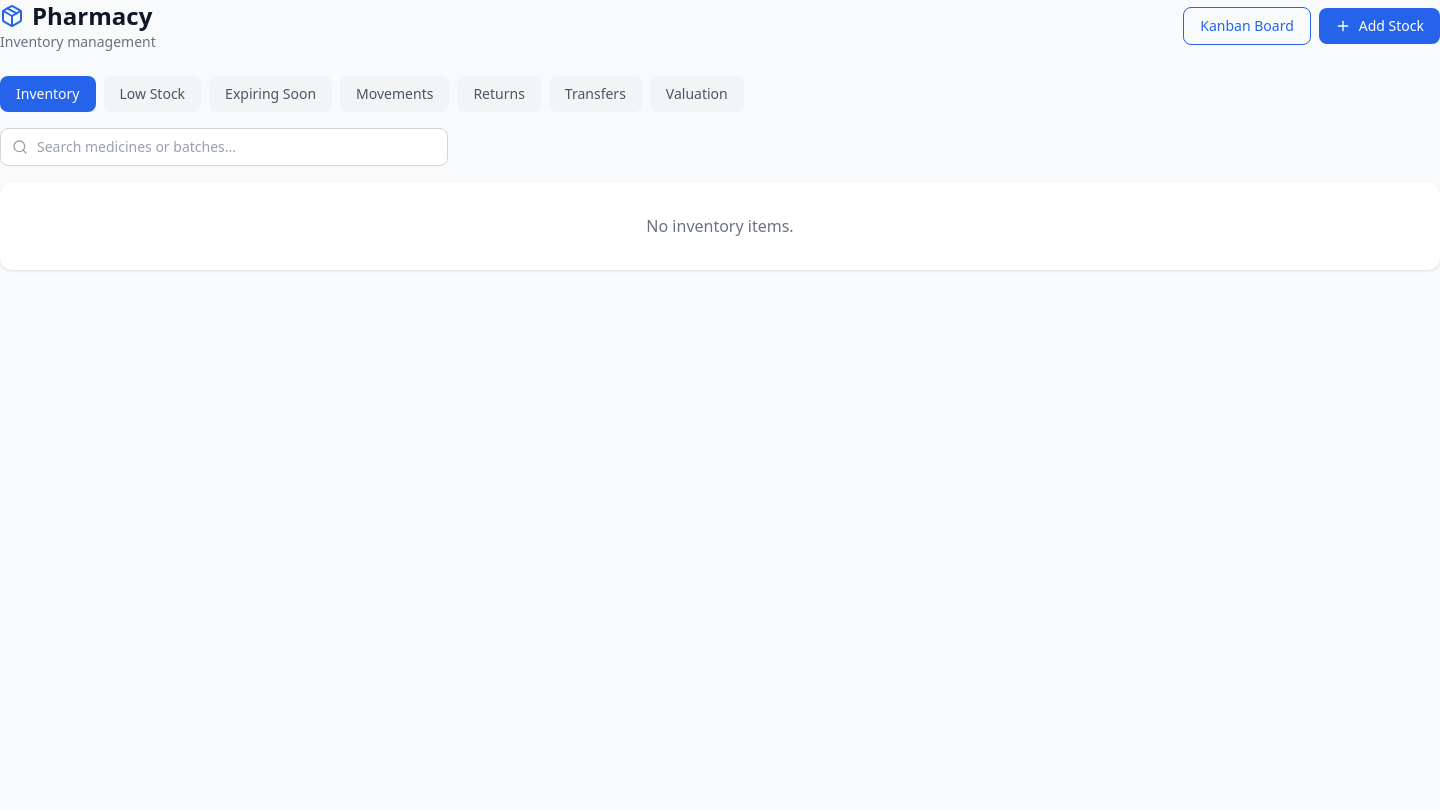
Test: PharmacyPage (inventory dashboard — full surface) › AddStock modal — past expiry date rejects via the field error
expect the text "No inventory items." is shown: met, box [646,215,794,237]
Click the button "Add Stock" at (1379, 26), box [1319,8,1439,44]
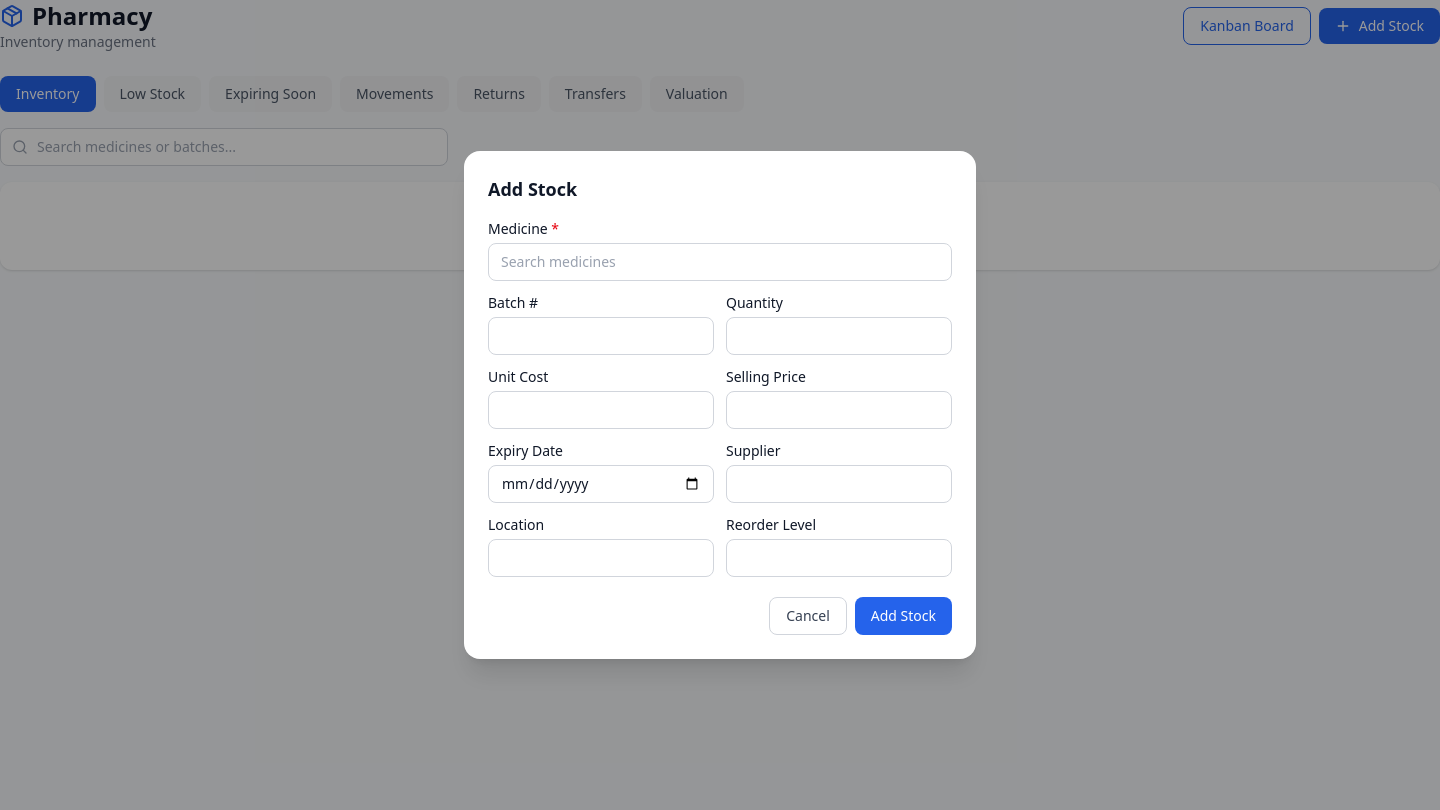
Type "B-NEW" into the field with test id "add-stock-batch" at (601, 336), box [488,317,714,355]
Type "10" into the number field with test id "add-stock-quantity" at (839, 336), box [726,317,952,355]
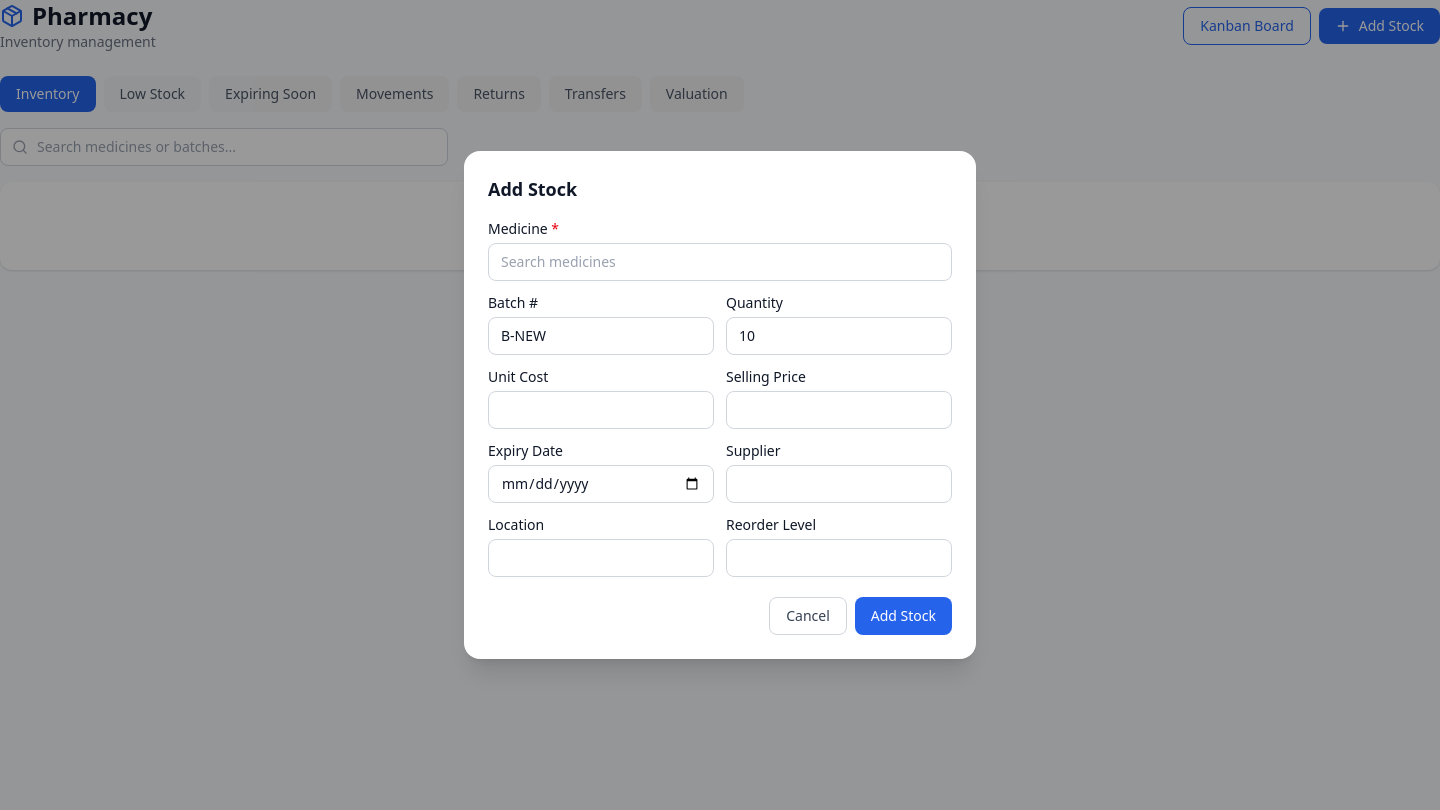
Type "5" into the number field with test id "add-stock-unit-cost" at (601, 410), box [488,391,714,429]
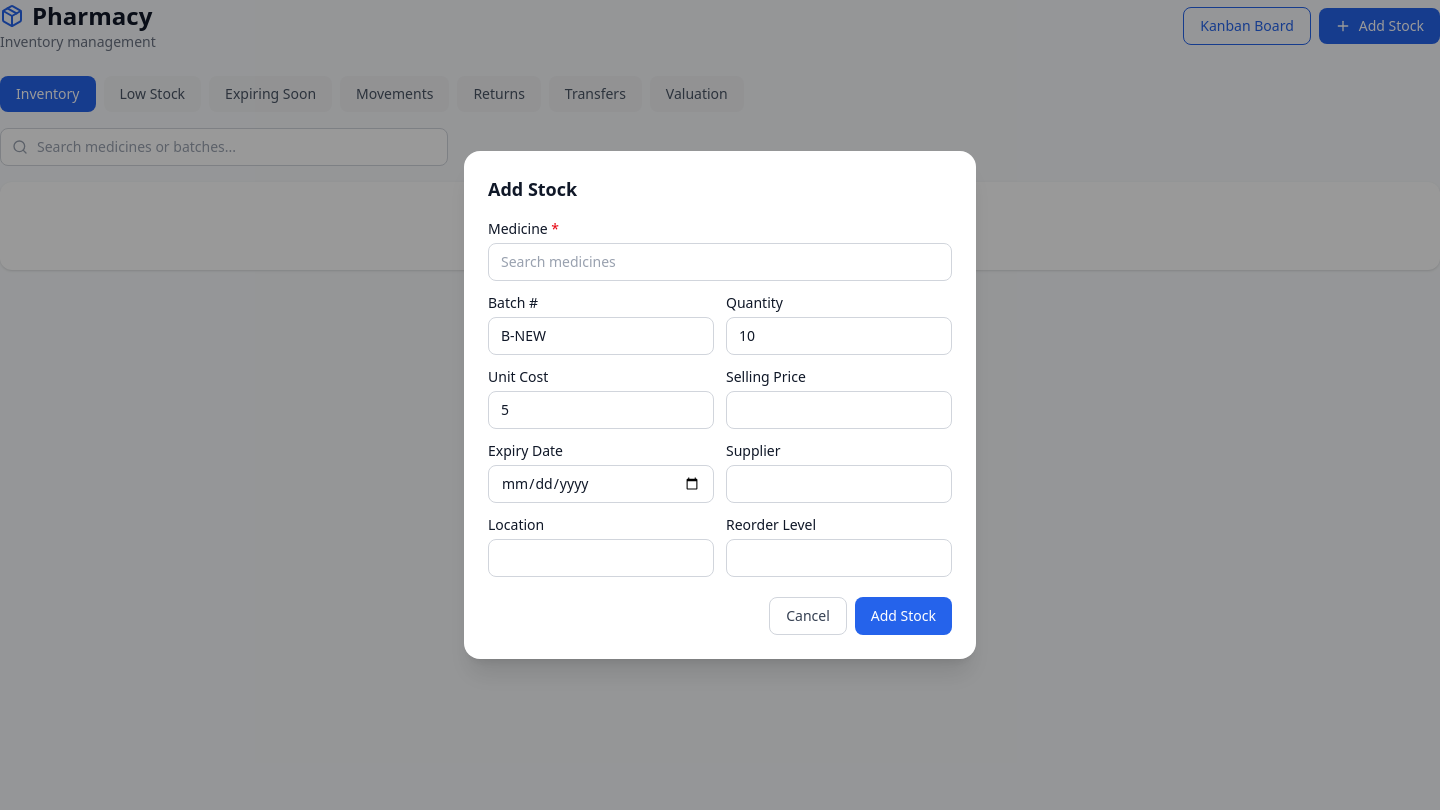
Type "10" into the number field with test id "add-stock-selling-price" at (839, 410), box [726,391,952,429]
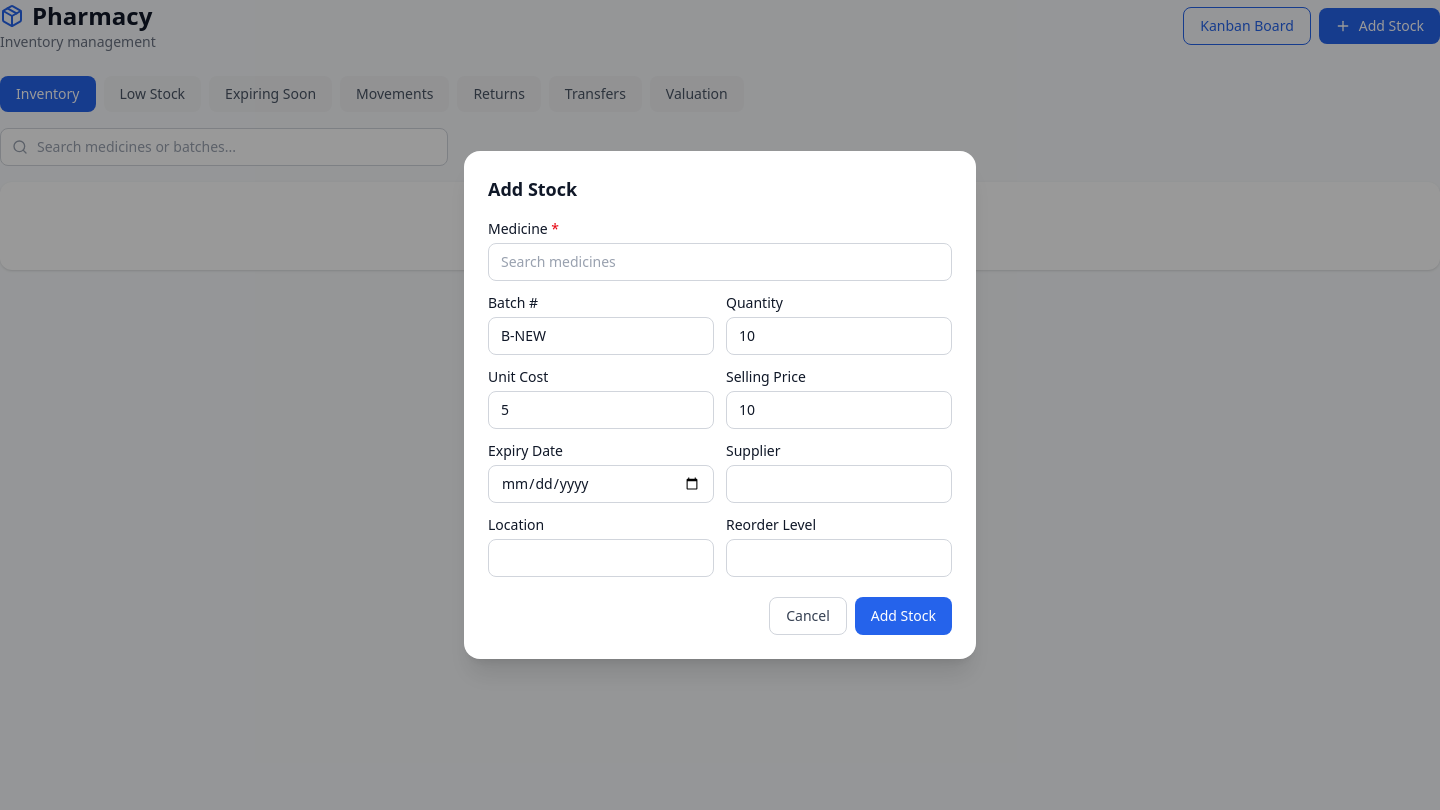
Note: Past date — 2020-01-01 is definitely before tomorrow.
Type "2020-01-01" into the date field with test id "add-stock-expiry" at (601, 484), box [488,465,714,503]
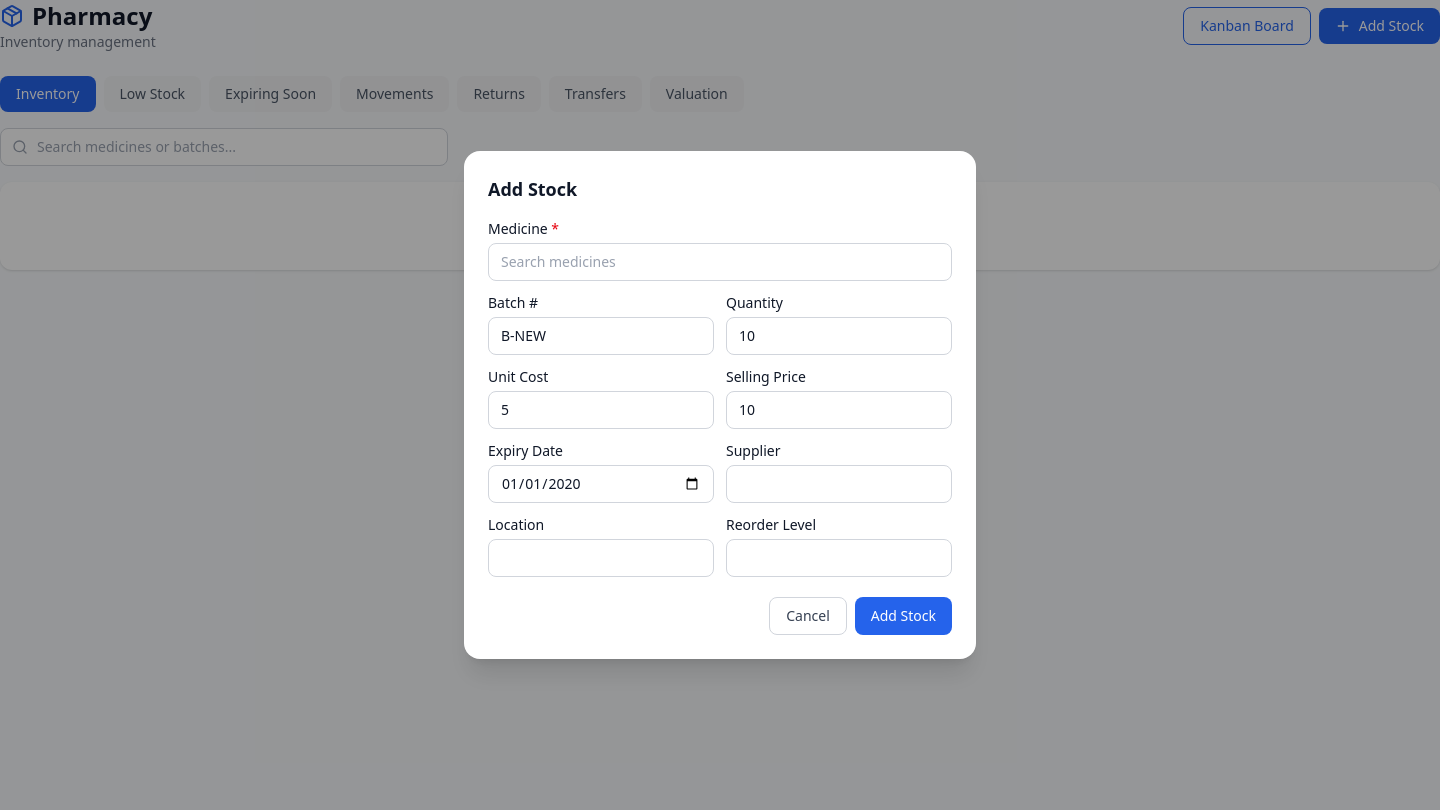
Click the button "Add Stock" at (903, 616), box [855,597,952,635]
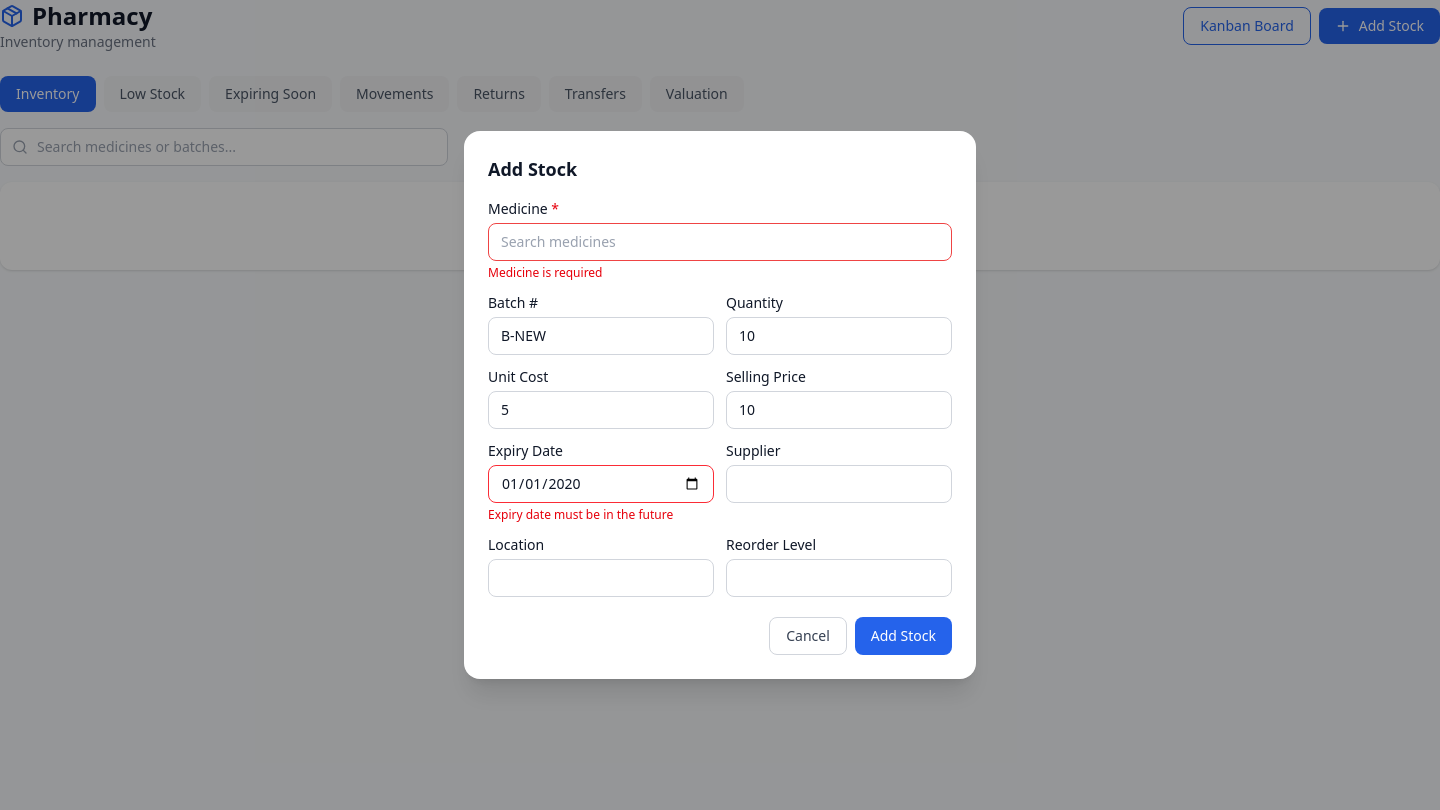
expect the text with test id "error-add-stock-expiryDate" reads "Expiry date must be in the future": met, box [488,506,673,523]
